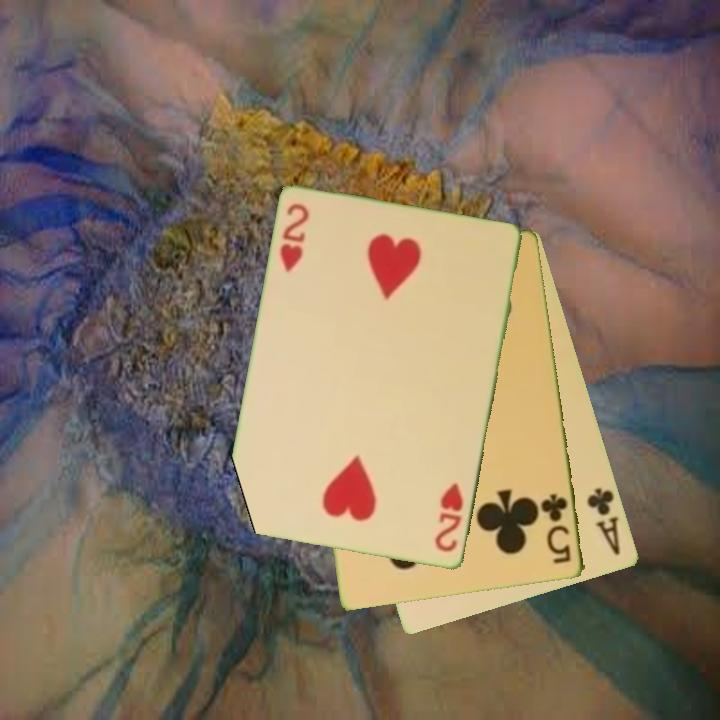2h: (431, 479, 467, 556), (277, 200, 313, 275)
5c: (537, 490, 575, 567)
Ac: (584, 484, 624, 558)
